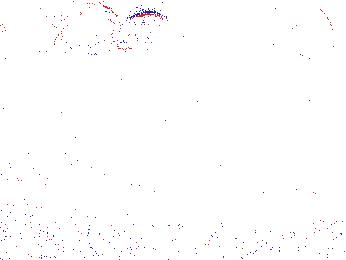moon jellyfish: (35, 1, 112, 60), (272, 1, 337, 63), (218, 3, 291, 40), (113, 12, 180, 52)
